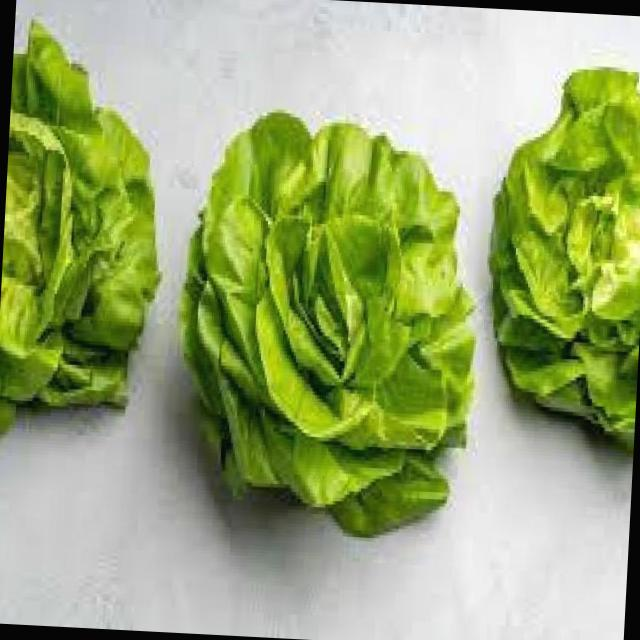Lettuce-Ready-to-Harvest: (184, 112, 474, 535), (0, 22, 157, 428), (491, 69, 640, 448)
